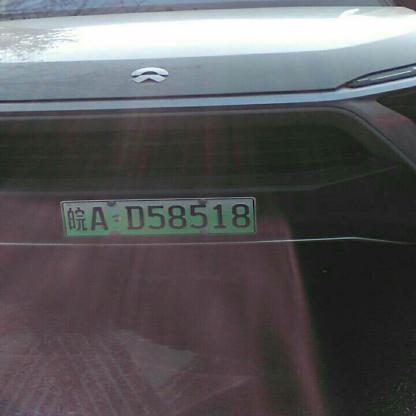lp: (61, 197, 257, 235)
